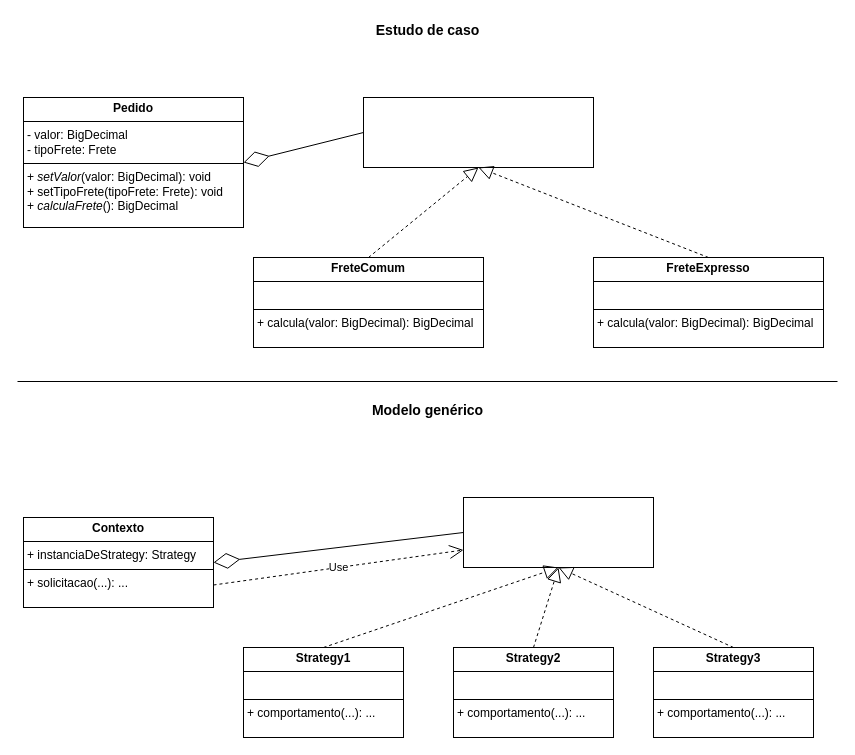
Some shapes in this 855 by 755 pixel diagram are drawn without their labels. The shapes that lost their labels are listed below. From the top down, each one's centre as x and y in pixels, then its label:
At (x=478, y=132): "<<Interface>> Frete + calcula(valor: BigDecimal): BigDecimal".
At (x=558, y=532): "<<Interface>> Strategy + comportamento(...): ...".
